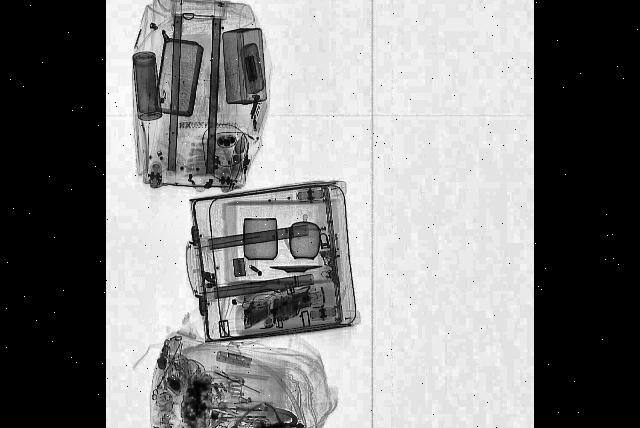Wrench: (182, 415, 288, 428)
